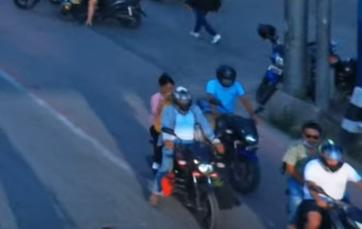bike: (146, 122, 227, 229), (209, 98, 269, 197)
